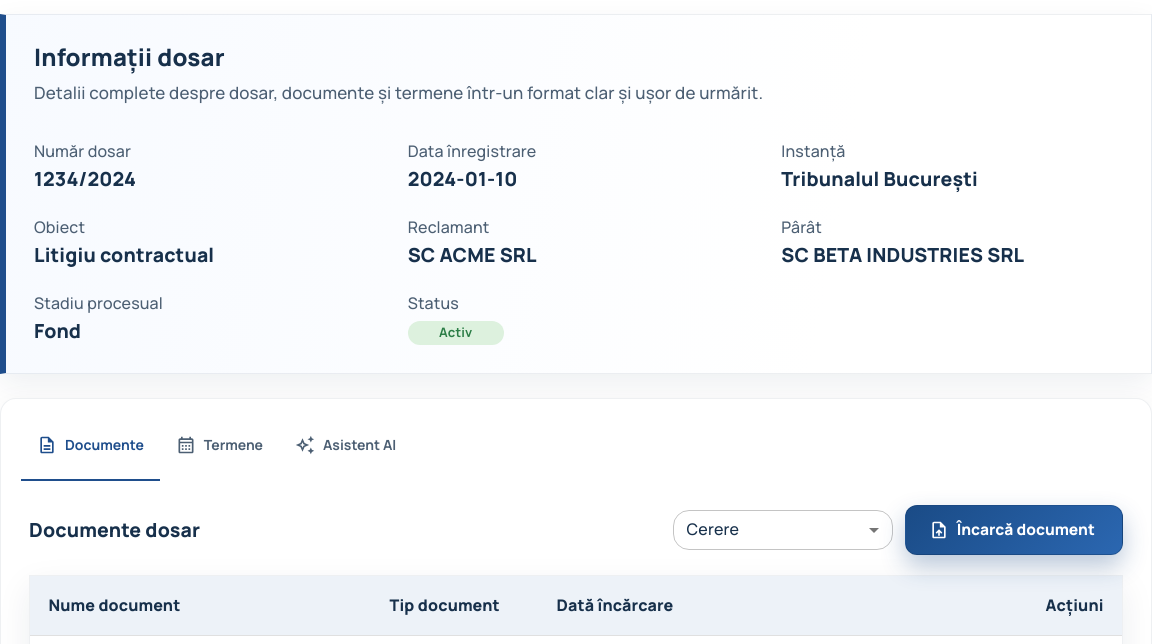
Scenario: CaseDetailPage › comută tab-urile termene și asistent AI
Click the tab "Termene" at (219, 445), box [160,409,279,481]
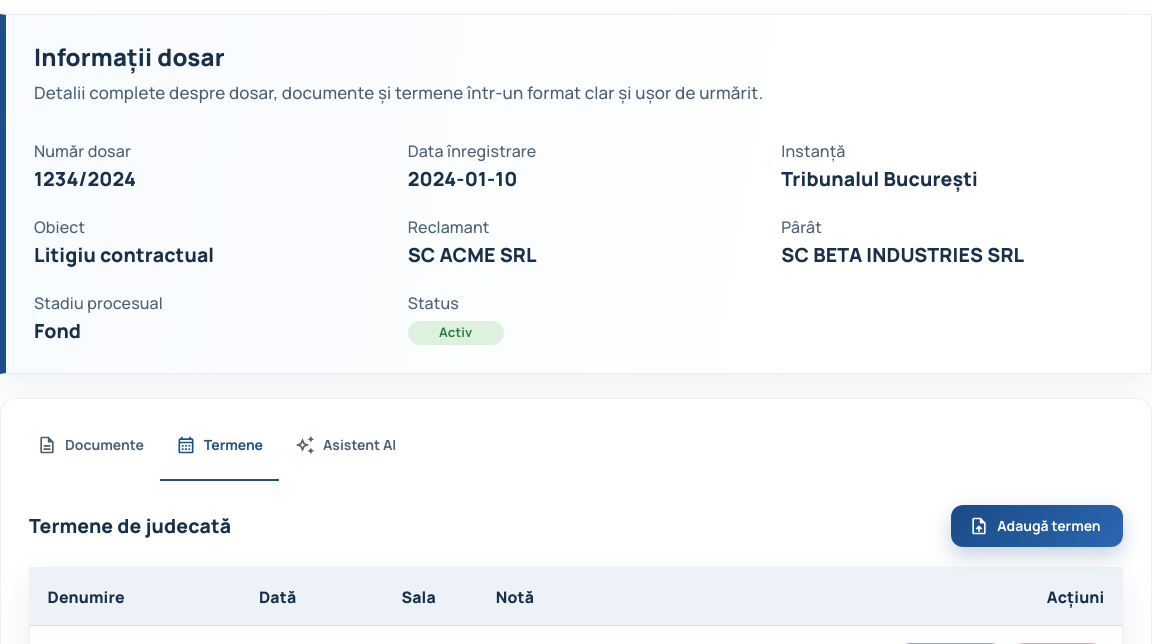
Now the heading "Termene de judecată" is shown, box [29,514,231,538]
Click the tab "Asistent AI" at (346, 445), box [279,409,412,481]
(page scrolled)
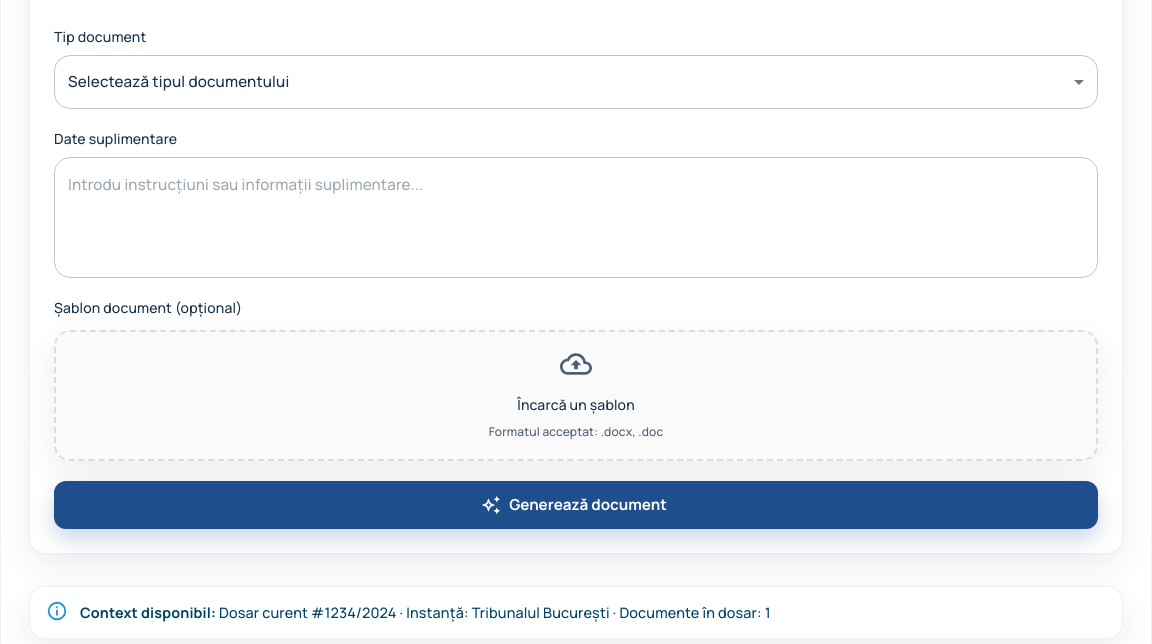
Now the text "Context disponibil:" is shown, box [80,603,216,622]
